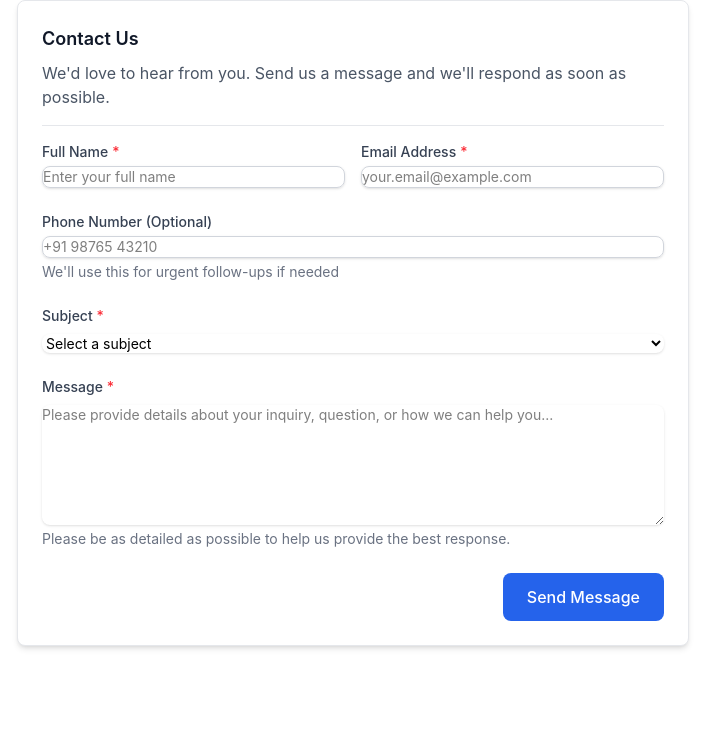
it: ContactForm › displays validation errors for empty required fields
The width and height of the screenshot is (707, 739).
Click the button "Send Message" at {"x": 583, "y": 597}, box [503, 573, 664, 621]
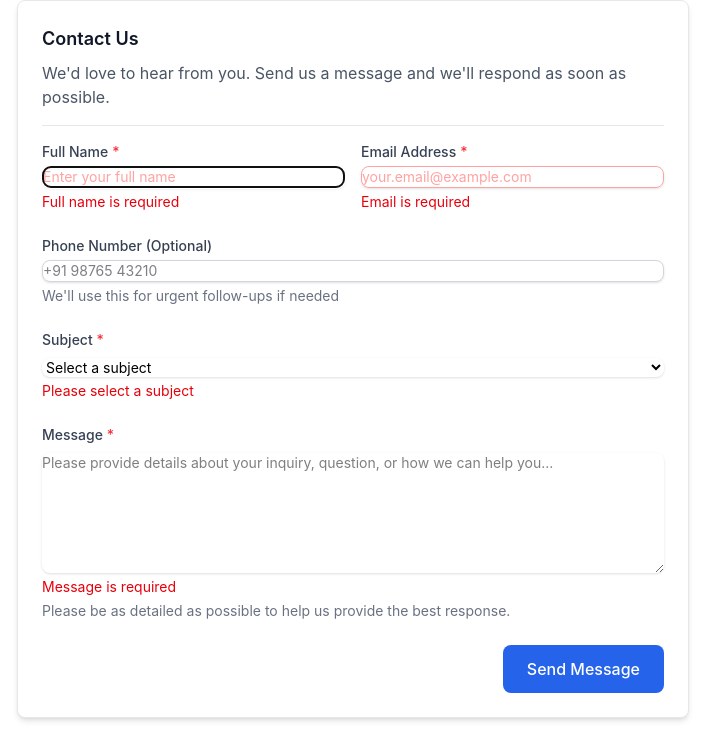
Now the text "Full name is required" is shown, box [42, 193, 179, 210]
Now the text "Email is required" is shown, box [361, 193, 470, 210]
Now the text "Please select a subject" is shown, box [42, 382, 194, 399]
